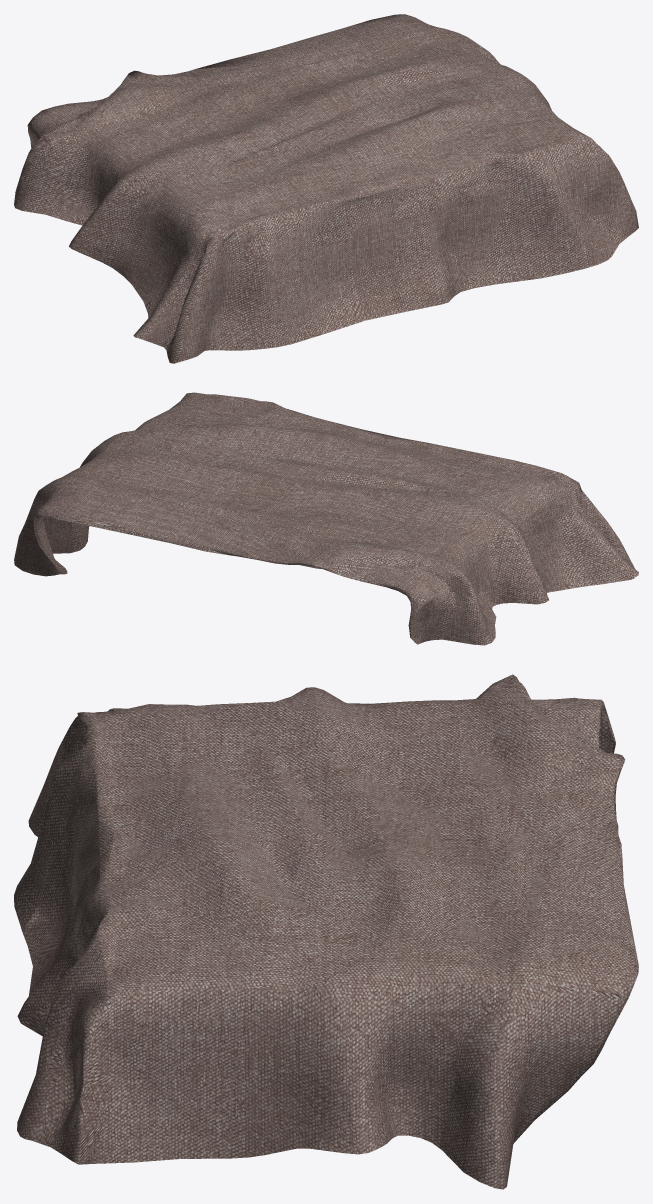
The model's file is blanket.FBX.
3 views of the same model, one above another, from view 1: azimuth 30°, elevation 25°; view 2: azimuth 150°, elevation 25°; view 3: azimuth 270°, elevation 25° (orthographic). The views are drawn at different scales.
Parts seen in each view (by area): view 1: blanket; view 2: blanket; view 3: blanket.
Part boxes in pixels (x1,y1,x2,y2): blanket: (14, 14, 638, 363); blanket: (14, 392, 638, 645); blanket: (14, 674, 638, 1189).
Size of the model in its own units: 109 by 74.31 by 25.28.
1 material, 1 textured.
